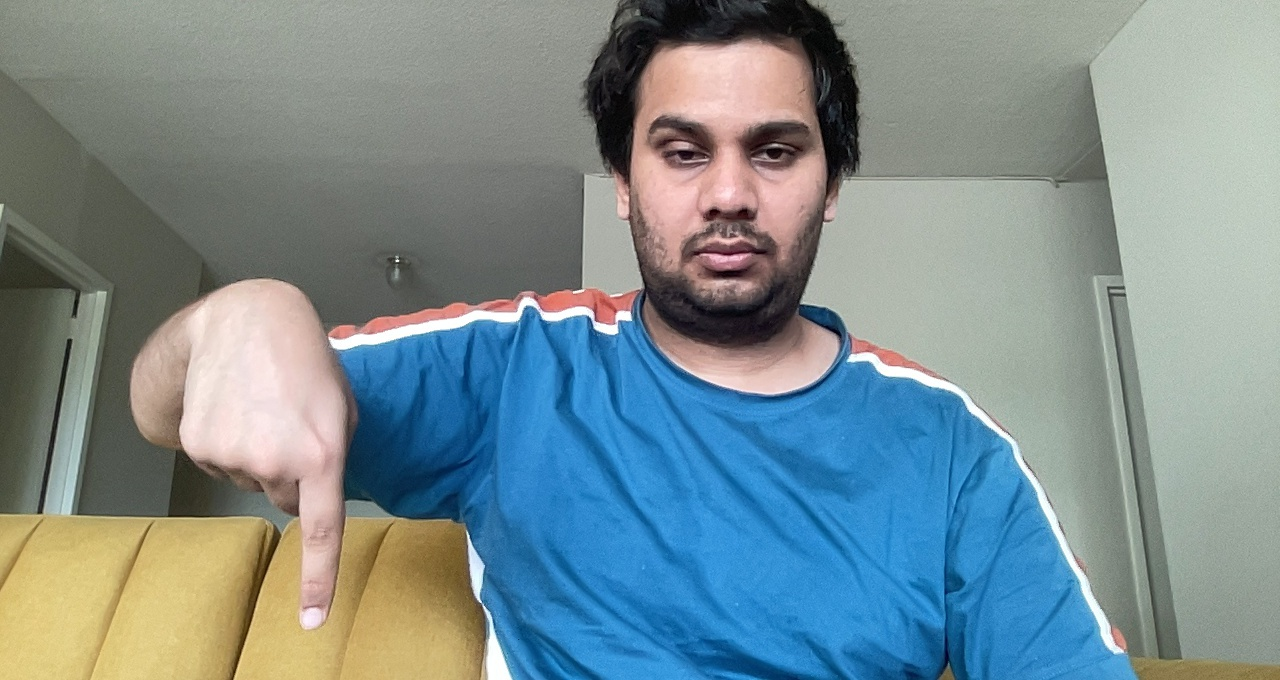fingerdown: (174, 272, 367, 648)
